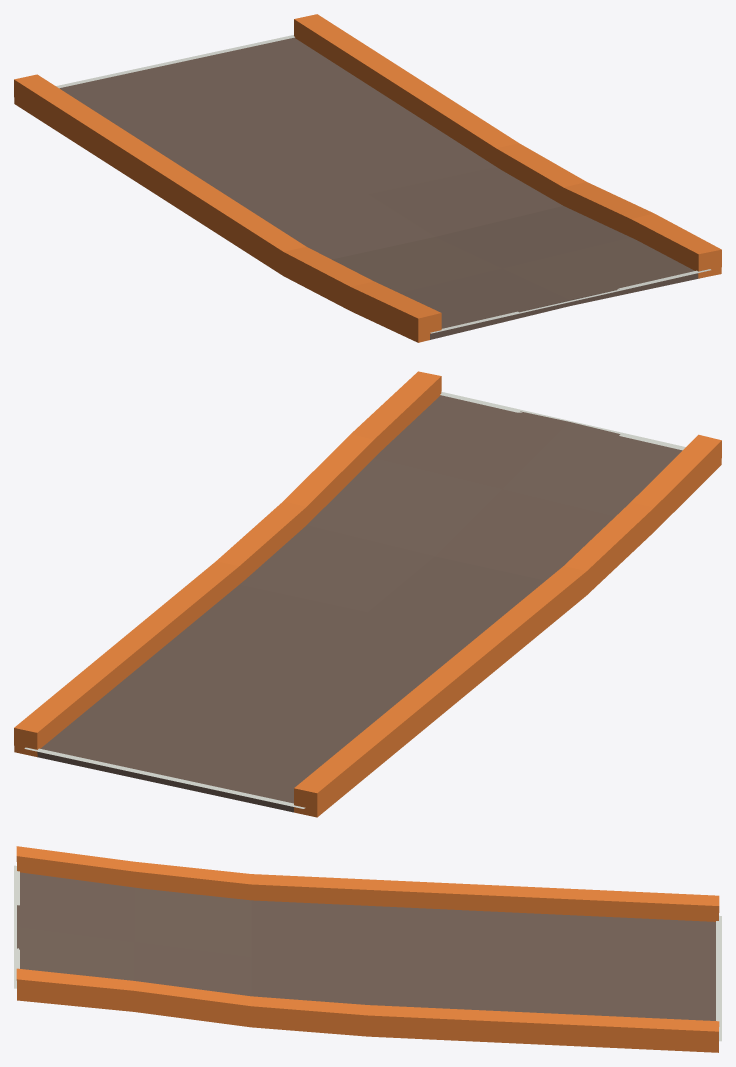
Rendered from SM_MP_Film_A_4_3.fbx.
3 renders of one model, top to bottom at view 1: azimuth 30°, elevation 25°; view 2: azimuth 150°, elevation 25°; view 3: azimuth 270°, elevation 25°, orthographic. The views are drawn at different scales.
Parts seen in each view (by area): view 1: SM_MP_Film_A_4_3; view 2: SM_MP_Film_A_4_3; view 3: SM_MP_Film_A_4_3.
Part boxes in pixels (x1=…): SM_MP_Film_A_4_3: x1=14, y1=14, x2=721, y2=342; SM_MP_Film_A_4_3: x1=14, y1=371, x2=721, y2=817; SM_MP_Film_A_4_3: x1=14, y1=846, x2=721, y2=1052.
Size of what is drawn, in the model's own units: 260 by 605 by 73.71.
